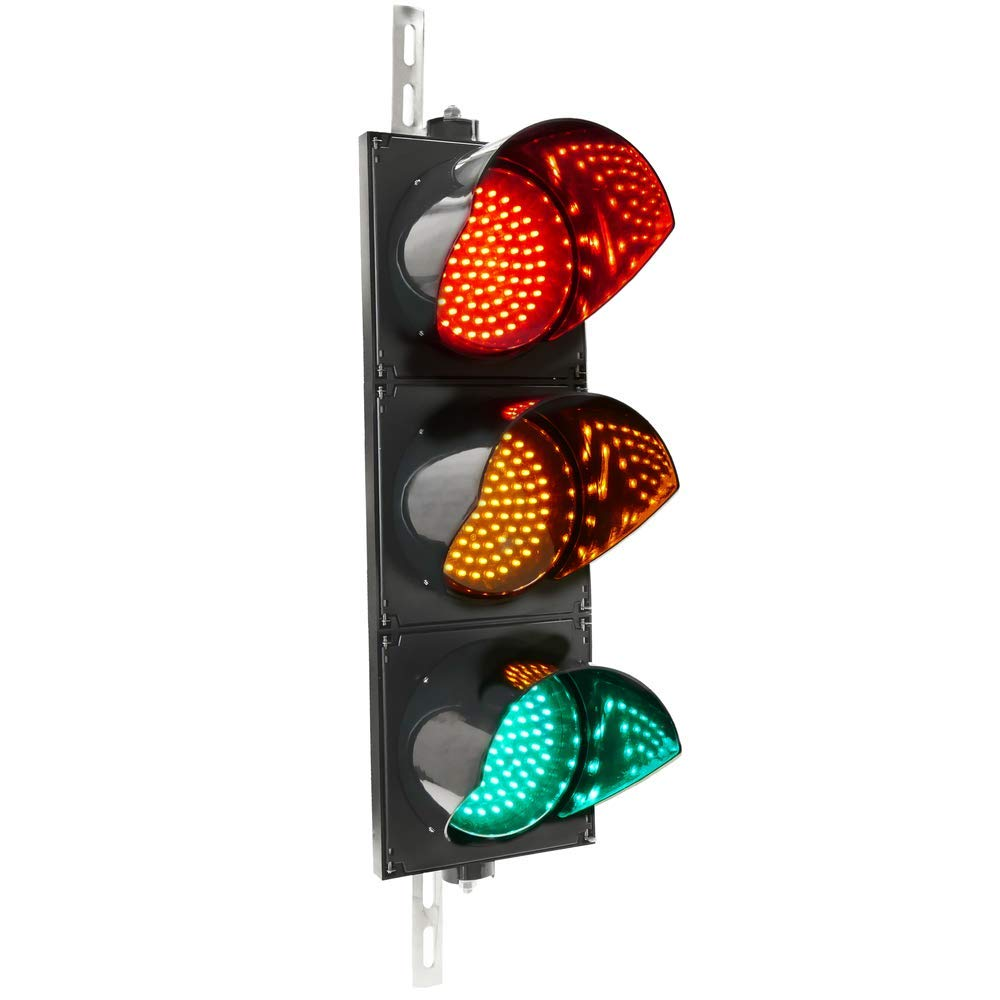trafic: (352, 114, 690, 888)
